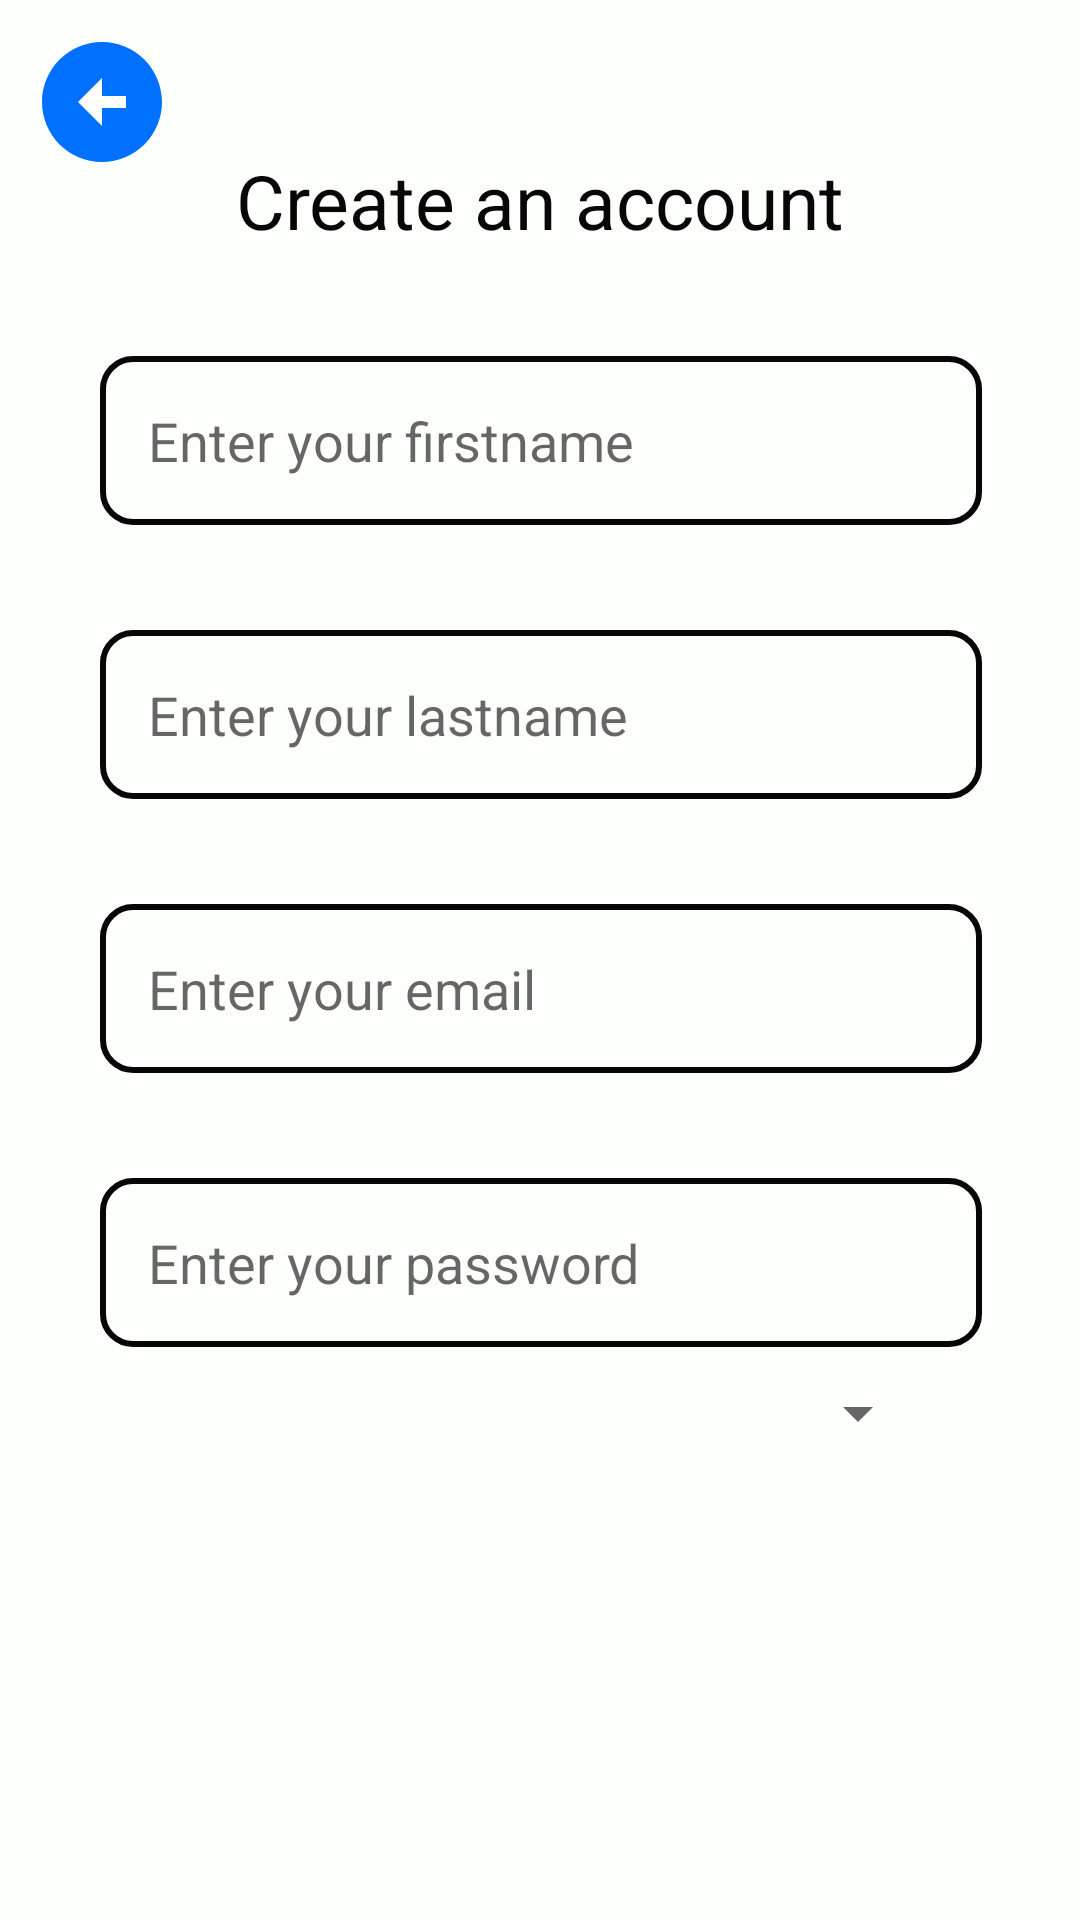

Point at icon controls on the screen. Image size 1080px×1920px, points as point (x, y).
back to left arrow: point (102, 102)
